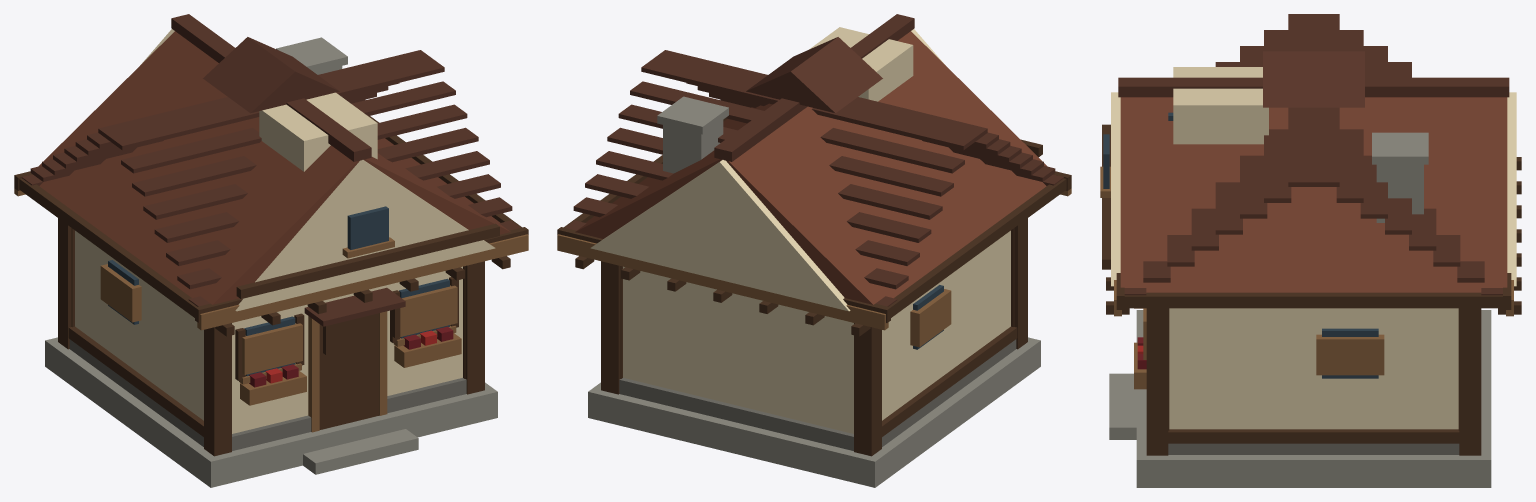
File: house.glb
The picture shows the model from 3 angles, left to right: view 1: azimuth 30°, elevation 25°; view 2: azimuth 150°, elevation 25°; view 3: azimuth 270°, elevation 25°; orthographic projection. The views are drawn at different scales.
Visible parts, largest first — view 1: house; view 2: house; view 3: house.
Boxes of the visible parts, bbox=[...] form: house: bbox=[14, 14, 528, 487]; house: bbox=[557, 14, 1071, 487]; house: bbox=[1100, 14, 1521, 487].
Size of the model in its own units: 4.48 by 4.39 by 4.63.
